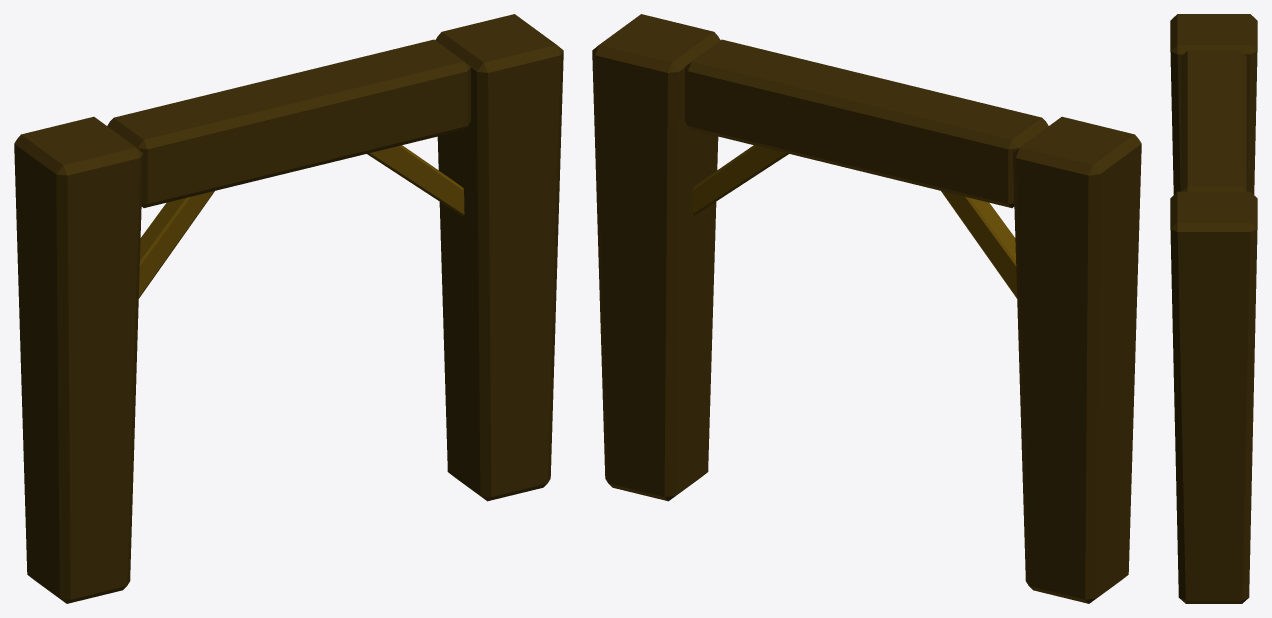
File: wooden_gang.fbx
3 renders of one model, left to right at view 1: azimuth 30°, elevation 25°; view 2: azimuth 150°, elevation 25°; view 3: azimuth 270°, elevation 25°, orthographic. The views are drawn at different scales.
Visible parts, largest first — view 1: polySurface39; view 2: polySurface39; view 3: polySurface39.
Part boxes in pixels (<box>): polySurface39: <box>14,14,563,603</box>; polySurface39: <box>592,14,1141,603</box>; polySurface39: <box>1170,14,1257,603</box>.
Bounding box in the file's own units: 290 × 242 × 49.66.
